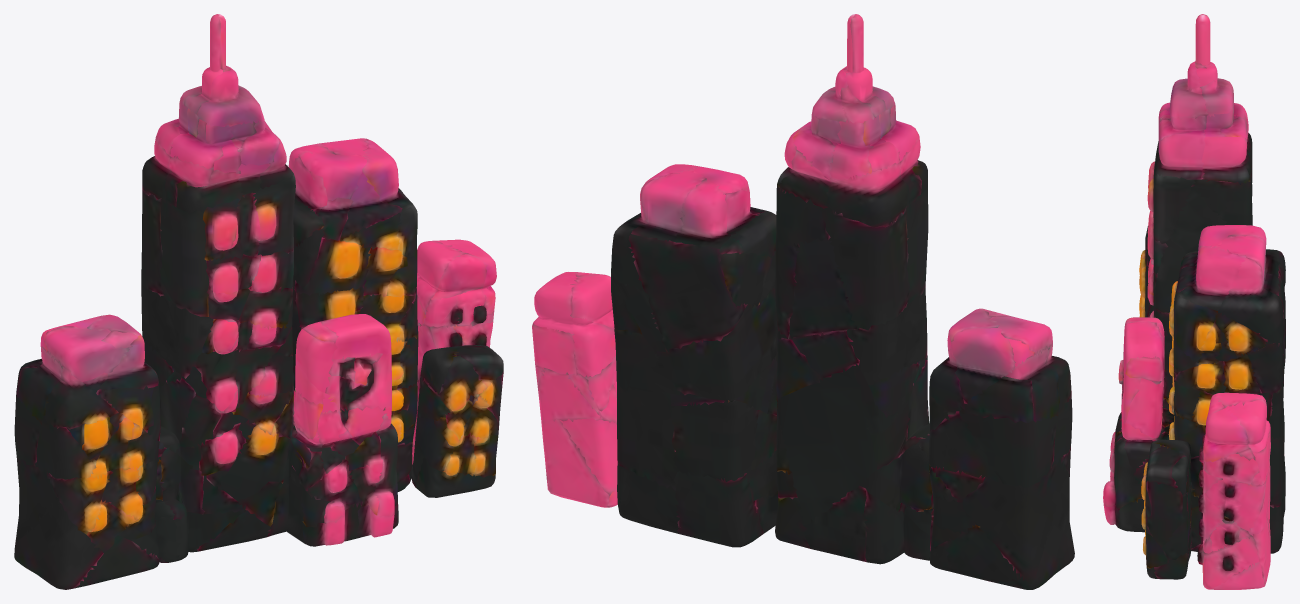
File: poplur_building_navigator.glb
3 views of the same model, side by side, from view 1: azimuth 30°, elevation 25°; view 2: azimuth 150°, elevation 25°; view 3: azimuth 270°, elevation 25° (orthographic). The views are drawn at different scales.
Size of the model in its own units: 1.86 by 1.9 by 0.6868.
1 material, 1 textured.
